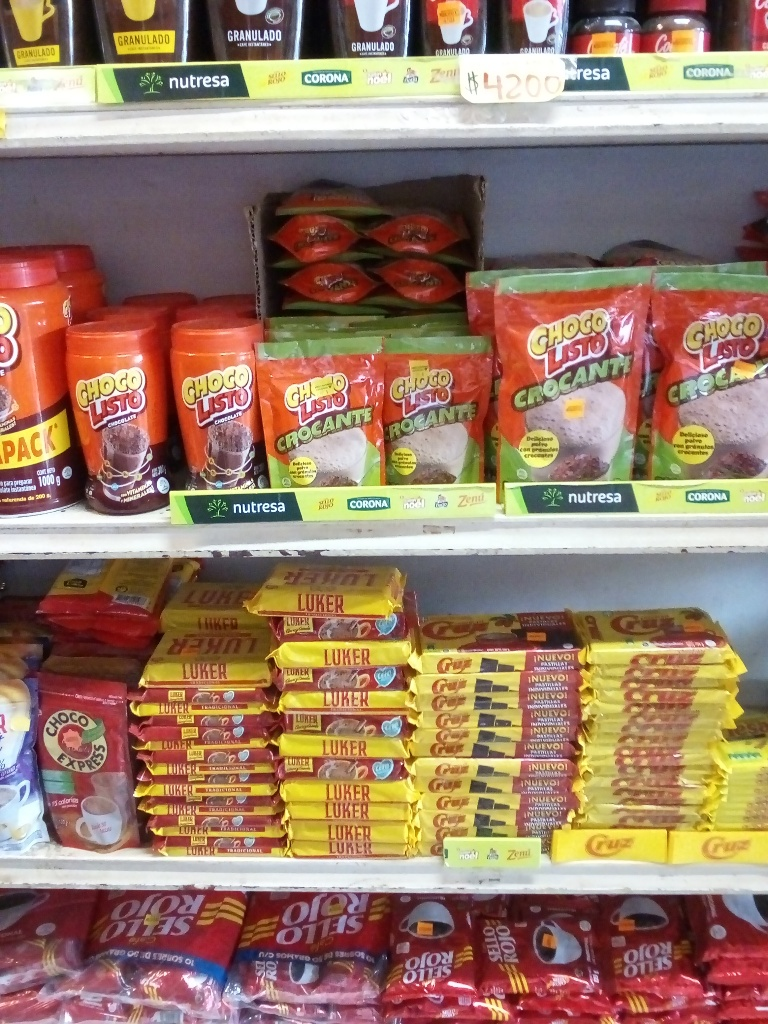COL0170102DYP10000: (259, 341, 384, 491)
COL0170102DYP25000: (496, 268, 646, 486)
COL0170103TRR00100: (0, 249, 82, 518)
COL0170103TRR30000: (171, 315, 259, 501)
